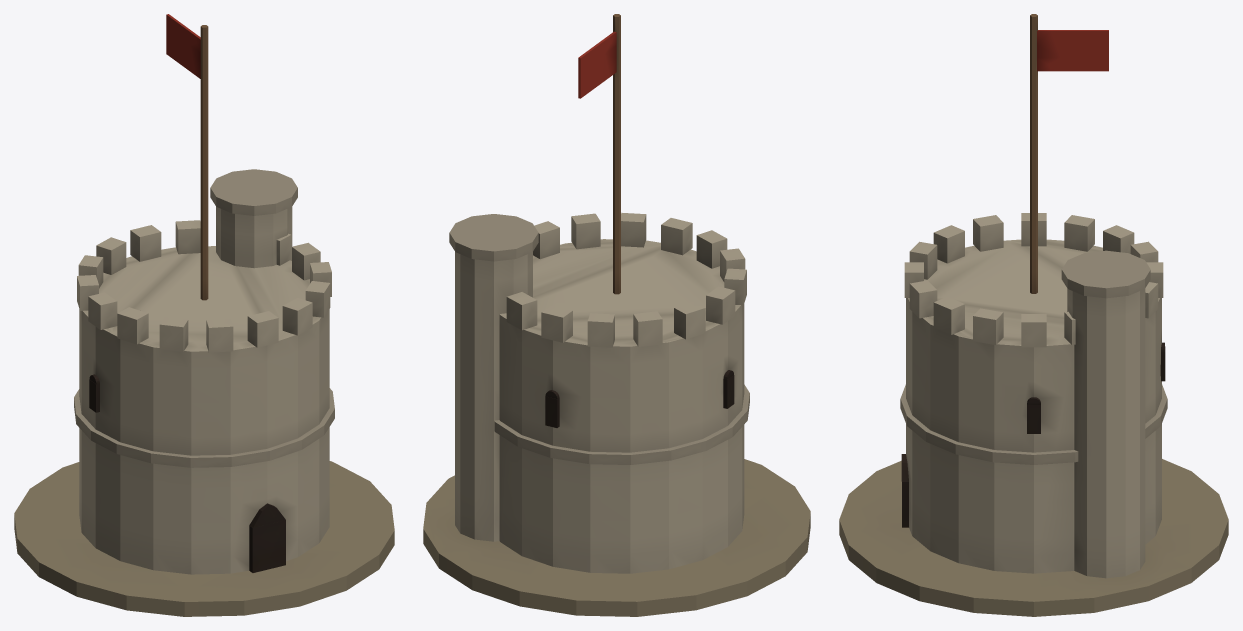
File: flagstaff-tower.glb
The picture shows the model from 3 angles, left to right: view 1: azimuth 30°, elevation 25°; view 2: azimuth 150°, elevation 25°; view 3: azimuth 270°, elevation 25°; orthographic projection.
Visible parts, largest first — view 1: p0_tower, p1_battlements, p2_flag; view 2: p0_tower, p1_battlements, p2_flag; view 3: p0_tower, p1_battlements, p2_flag.
Boxes of the visible parts, x1=… form: p0_tower: x1=14, y1=246, x2=394, y2=616; p1_battlements: x1=77, y1=169, x2=331, y2=352; p2_flag: x1=166, y1=14, x2=208, y2=300; p0_tower: x1=423, y1=239, x2=810, y2=616; p1_battlements: x1=449, y1=212, x2=746, y2=541; p2_flag: x1=578, y1=14, x2=620, y2=294; p0_tower: x1=839, y1=239, x2=1228, y2=616; p1_battlements: x1=904, y1=213, x2=1163, y2=578; p2_flag: x1=1030, y1=14, x2=1108, y2=293.
Bounding box in the file's own units: 14 × 20.6 × 14.
